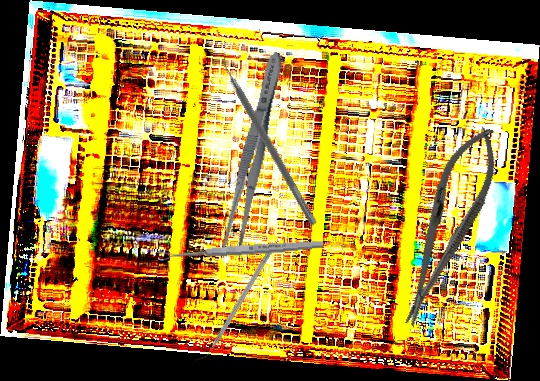Chopper: (194, 238, 277, 366)
Dressing Forceps: (218, 49, 290, 256)
Needle Holder: (382, 118, 513, 334)
Spatula Surgical: (212, 48, 326, 227)
Surgical Spoon: (157, 238, 324, 262)
